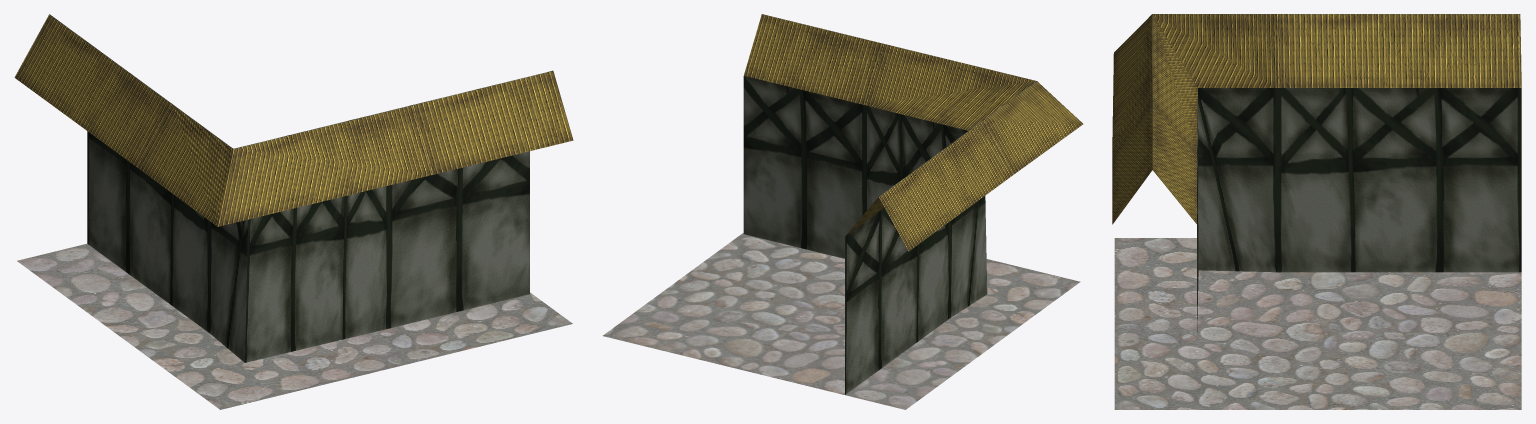
The model's file is 3-5_Wall_Turn(No_Edge)_v2.fbx.
3 views of the same model, side by side, from view 1: azimuth 30°, elevation 25°; view 2: azimuth 150°, elevation 25°; view 3: azimuth 270°, elevation 25° (orthographic). The views are drawn at different scales.
Parts seen in each view (by area): view 1: Wall_Turn_v2; view 2: Wall_Turn_v2; view 3: Wall_Turn_v2.
Boxes of the visible parts, bbox=[...] form: Wall_Turn_v2: bbox=[14, 14, 573, 409]; Wall_Turn_v2: bbox=[603, 14, 1083, 409]; Wall_Turn_v2: bbox=[1112, 14, 1521, 409].
Bounding box in the file's own units: 101 × 64.88 × 101.
Materials: 2 (2 with a texture image).
